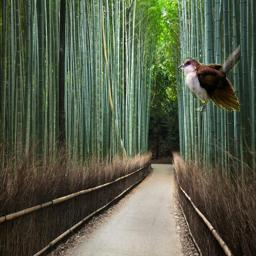Cuckoo: (177, 21, 240, 115)
